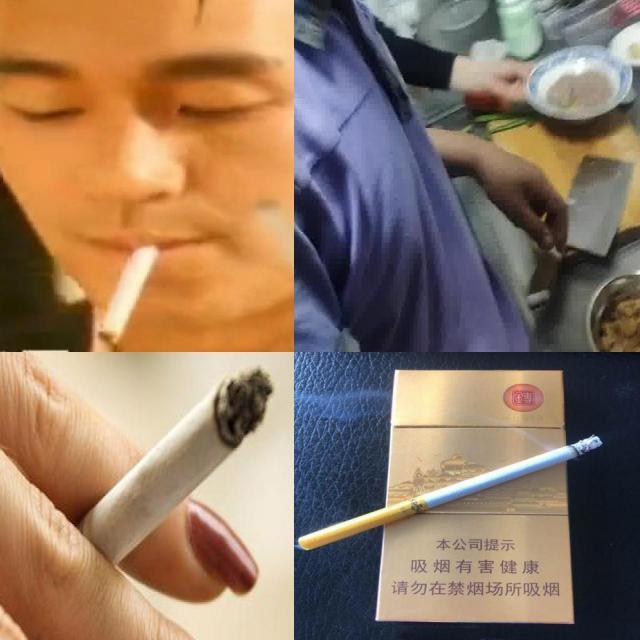cigarette: (70, 363, 276, 560), (298, 435, 604, 550), (98, 228, 172, 346)
